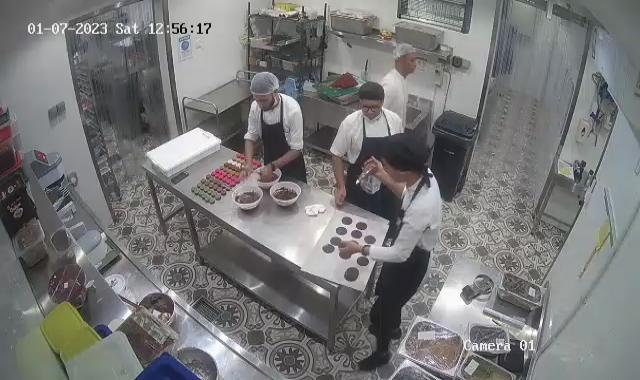hairnet: (250, 71, 282, 105), (392, 42, 418, 64)
no_hairnet: (379, 132, 429, 173), (359, 80, 386, 108)
